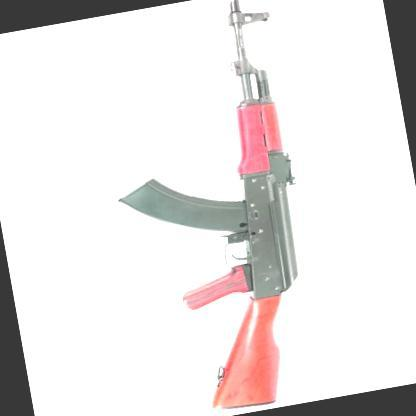rifle: (87, 0, 360, 416)
